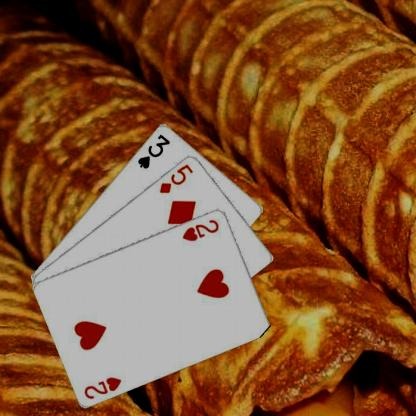2H: (180, 216, 221, 242), (82, 374, 122, 400)
3S: (135, 131, 171, 170)
5D: (157, 161, 194, 194)
